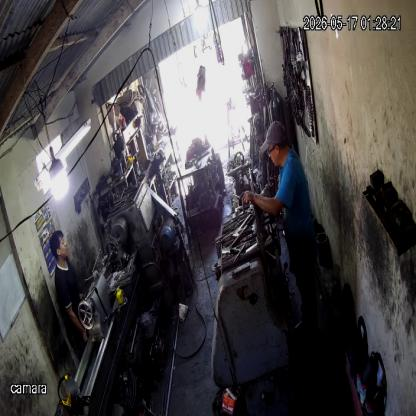lentes: (266, 142, 278, 154)
